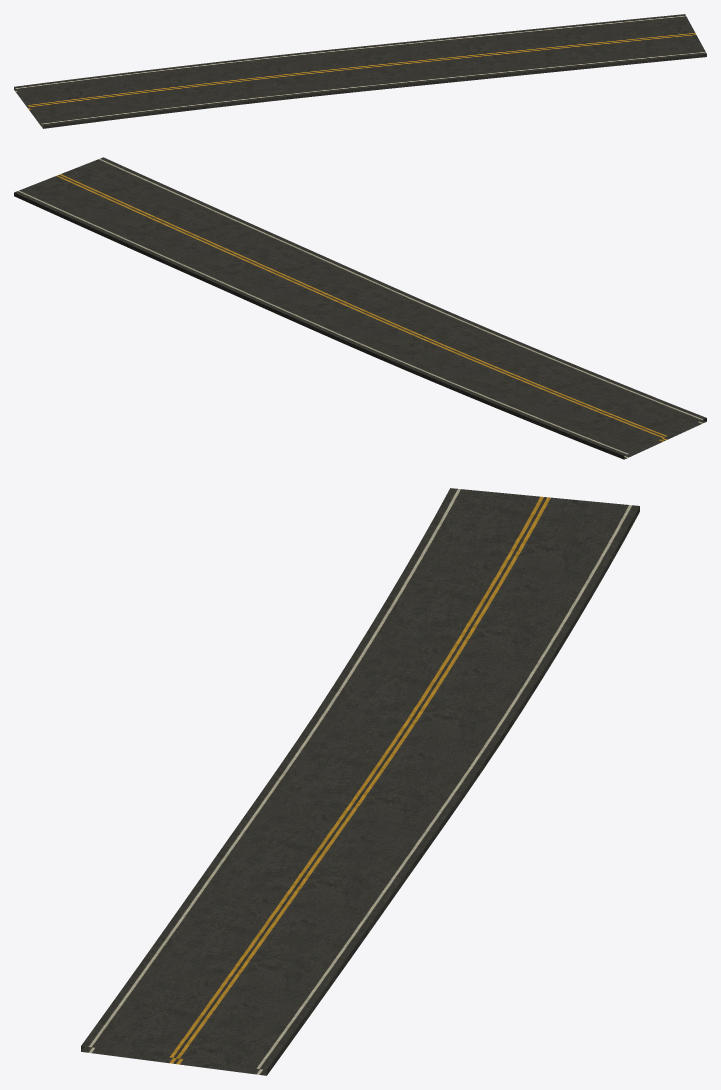
File: SM_Road_05.fbx
The picture shows the model from 3 angles, top to bottom: view 1: azimuth 30°, elevation 25°; view 2: azimuth 150°, elevation 25°; view 3: azimuth 270°, elevation 25°; orthographic projection. The views are drawn at different scales.
Parts seen in each view (by area): view 1: SM_Road_05; view 2: SM_Road_05; view 3: SM_Road_05.
Boxes of the visible parts, x1=… form: SM_Road_05: x1=14, y1=14, x2=706, y2=128; SM_Road_05: x1=14, y1=157, x2=706, y2=459; SM_Road_05: x1=81, y1=488, x2=639, y2=1075.
Size of the model in its own units: 10629 by 4314 by 50.03.
1 material, 1 textured.
